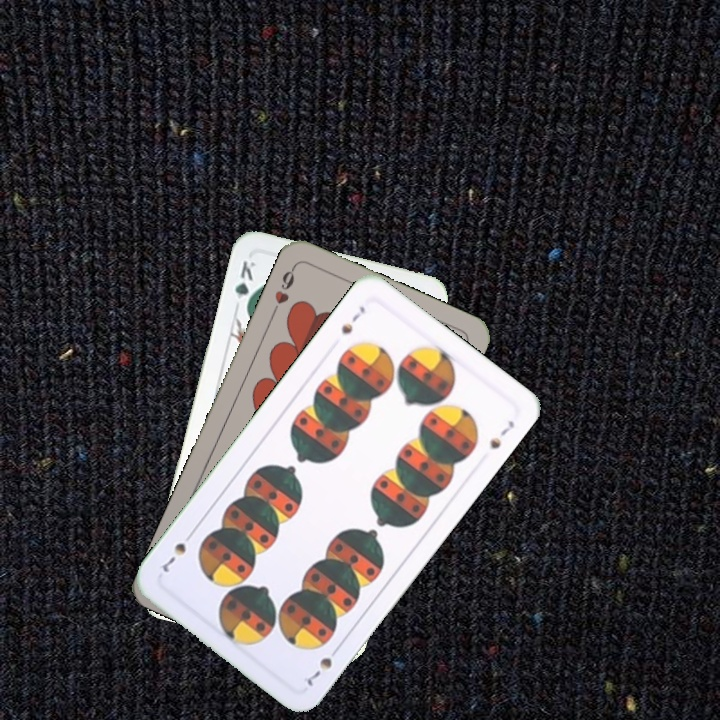GK: (230, 256, 259, 314)
H9: (268, 262, 298, 318)
S7: (302, 641, 344, 690), (337, 302, 368, 337)
